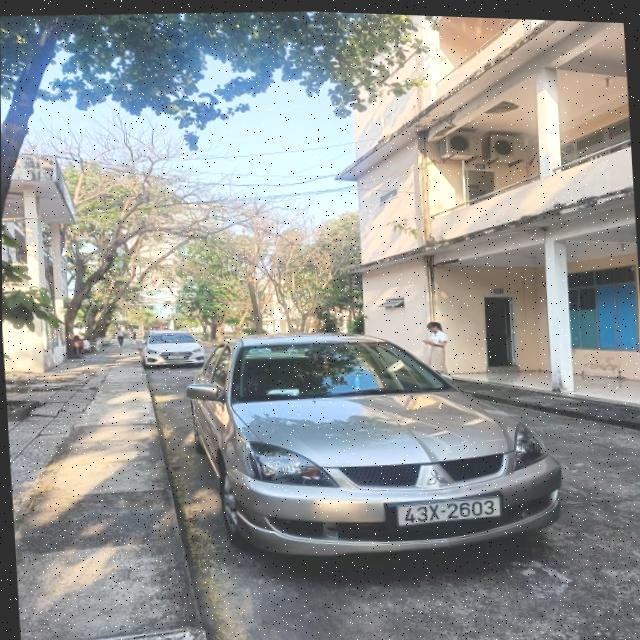car: (177, 314, 568, 583), (134, 320, 208, 376)
plate: (391, 486, 508, 533)
